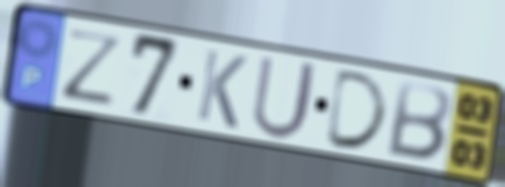7: (128, 28, 182, 120)
B: (383, 77, 455, 164)
D: (322, 66, 392, 153)
K: (193, 46, 250, 133)
U: (249, 53, 322, 143)
Z: (60, 26, 128, 109)
